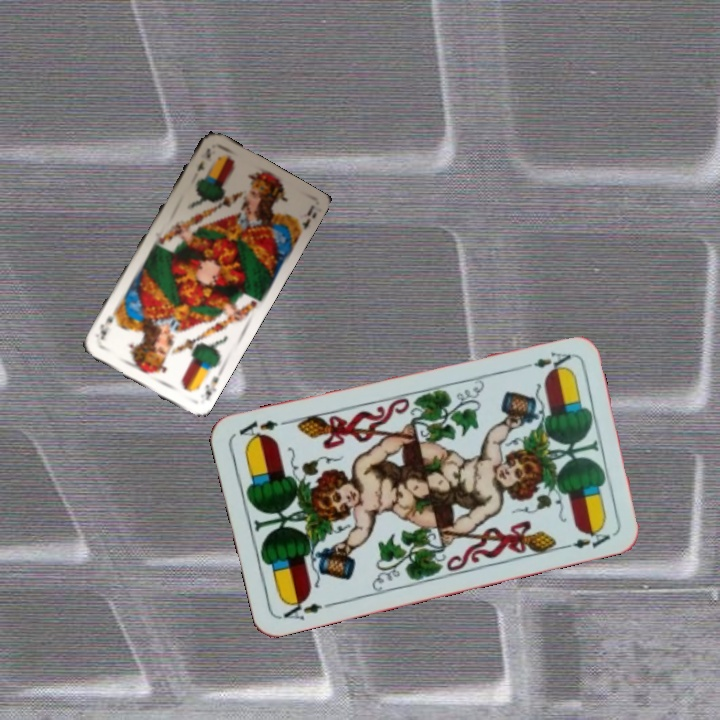EA: (278, 593, 336, 623), (515, 347, 574, 373)
EK: (193, 144, 214, 174), (201, 372, 221, 403)
